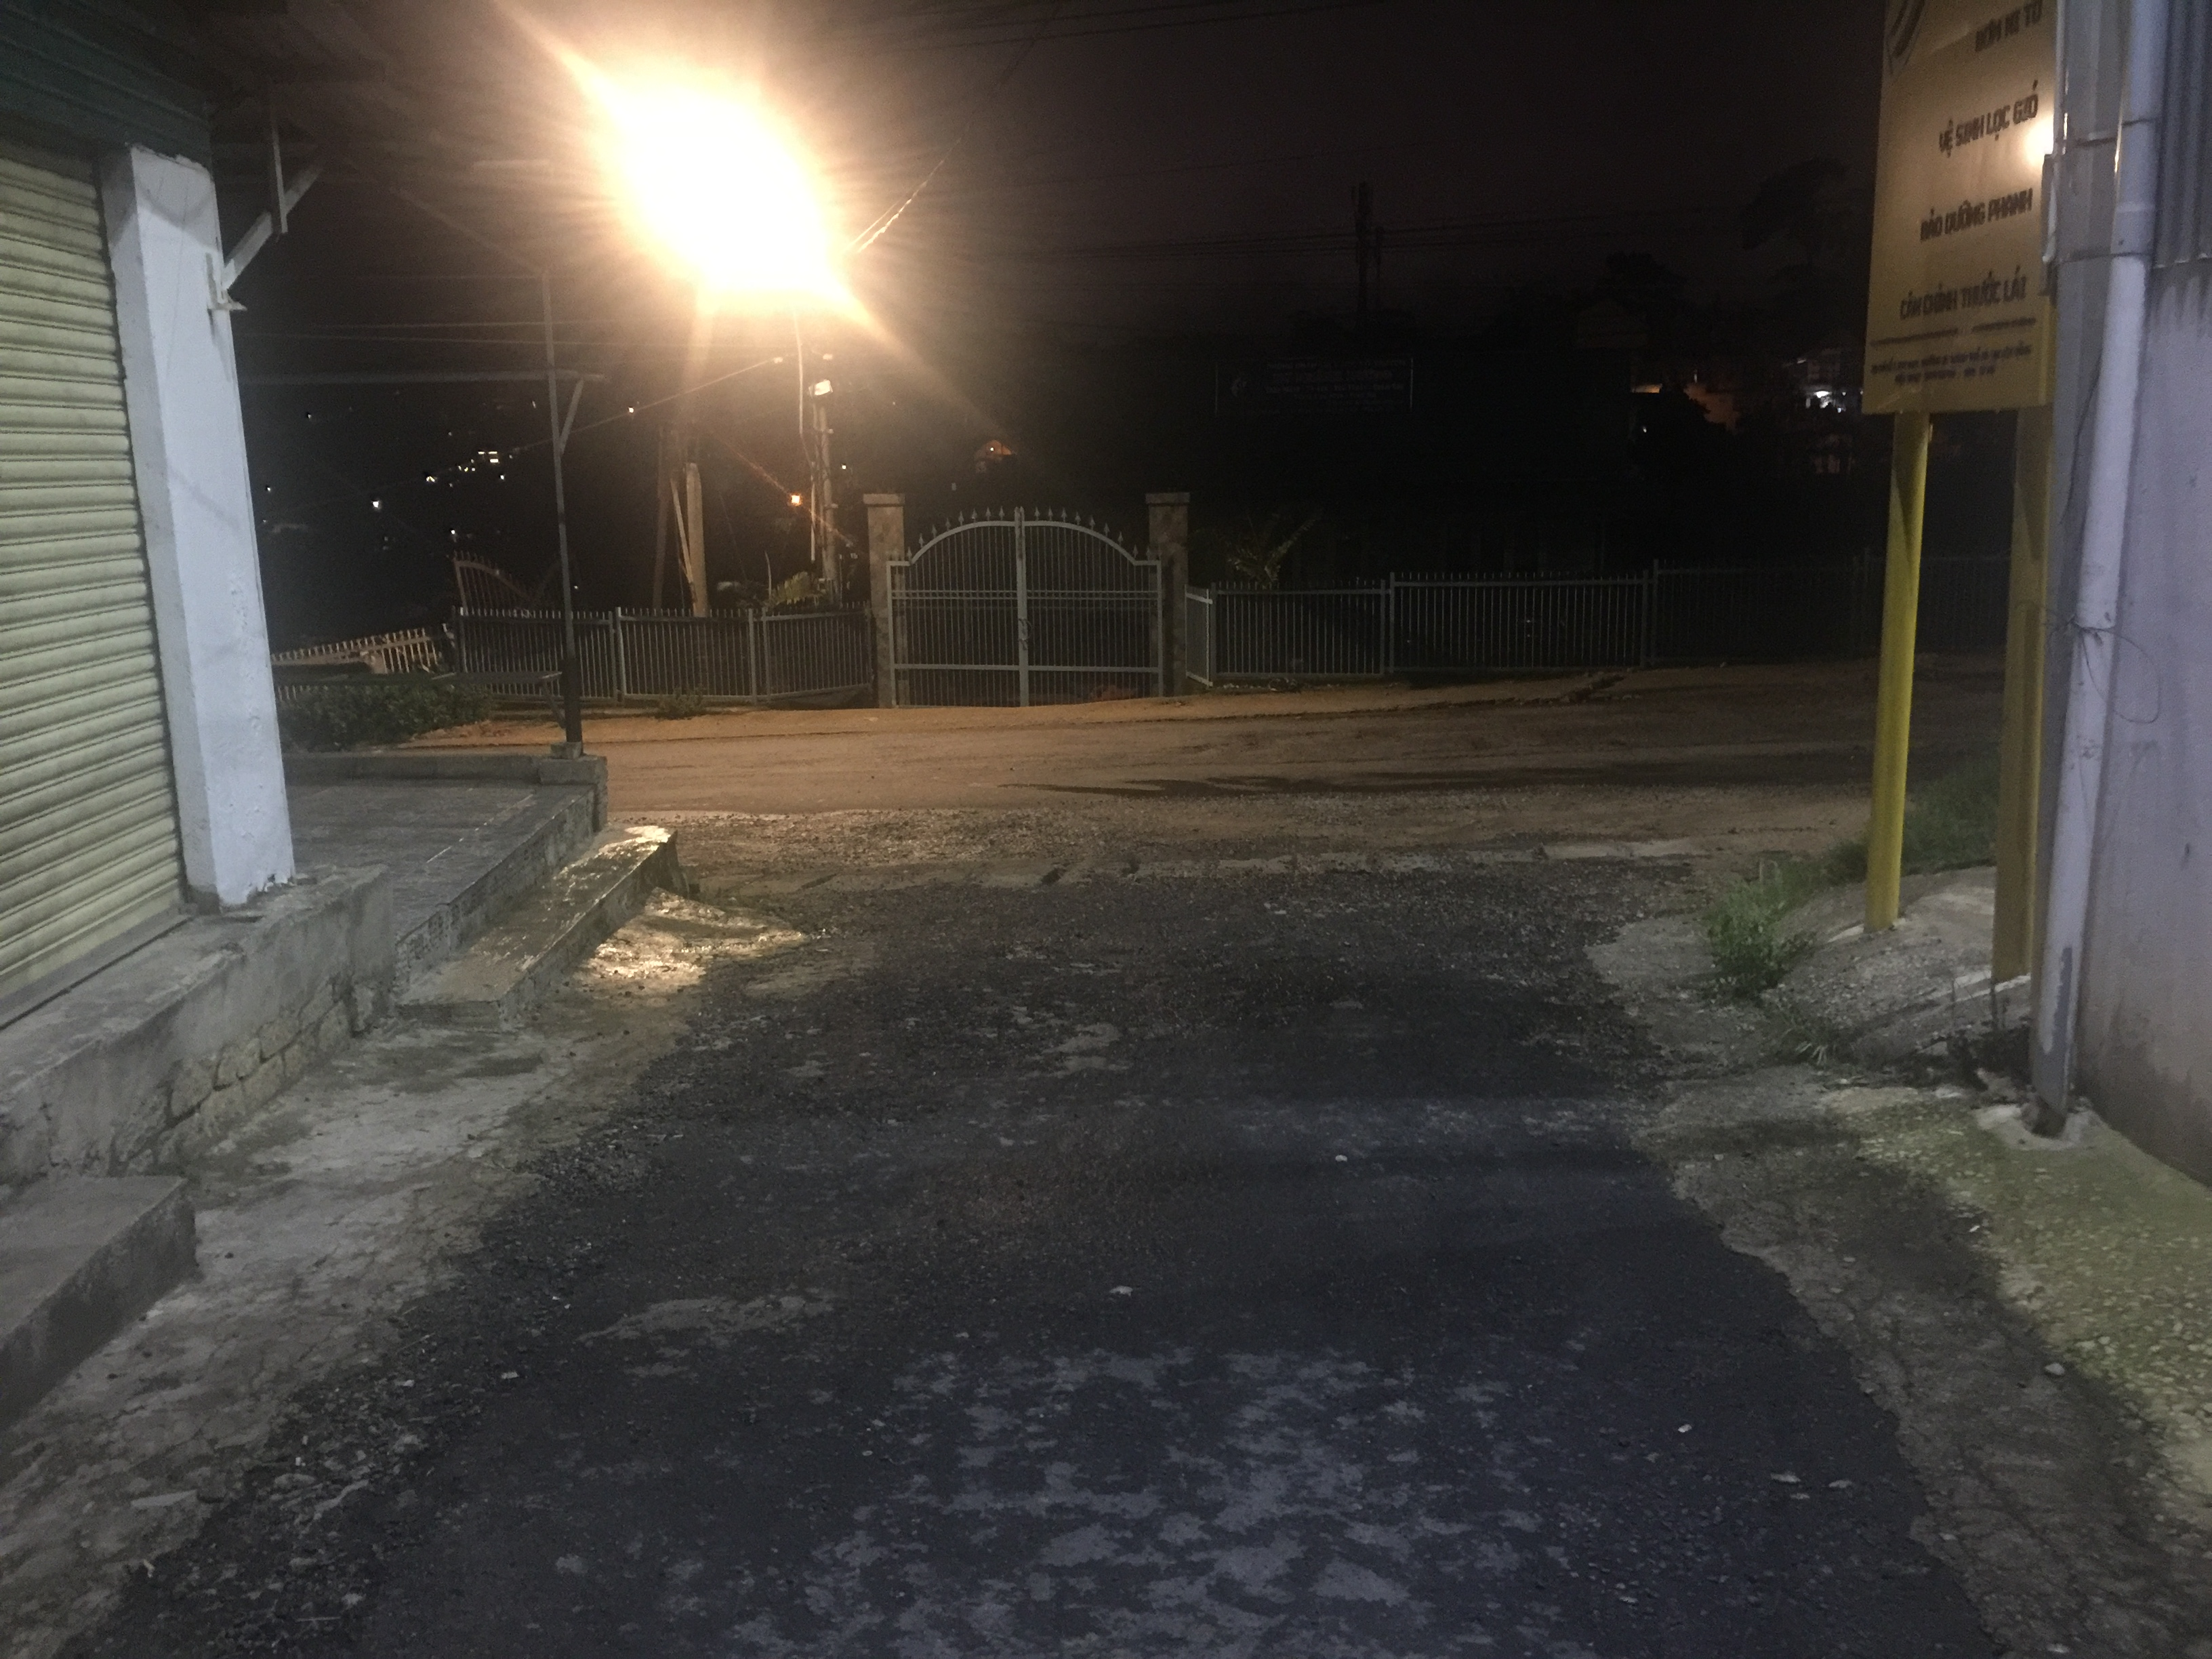hole: (989, 939, 1061, 960)
